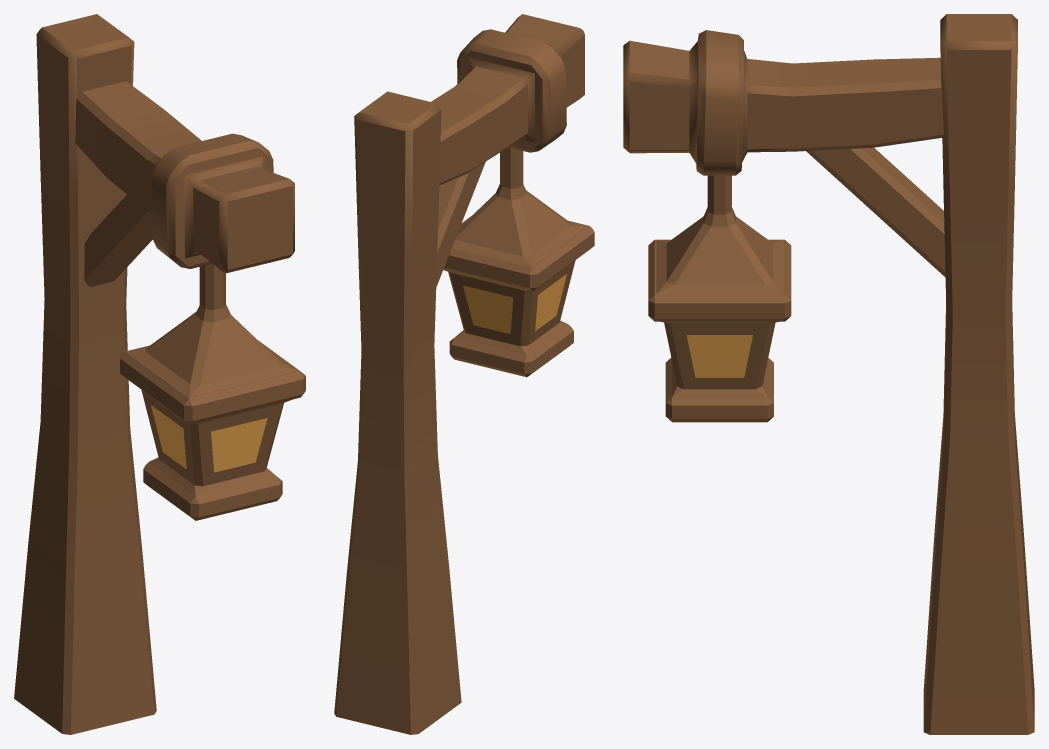
File: streetlight.glb
3 renders of one model, left to right at view 1: azimuth 30°, elevation 25°; view 2: azimuth 150°, elevation 25°; view 3: azimuth 270°, elevation 25°, orthographic. The views are drawn at different scales.
Visible parts, largest first — view 1: streetlightPhysical; view 2: streetlightPhysical; view 3: streetlightPhysical.
Boxes of the visible parts, x1,y1,x2,y2 form: streetlightPhysical: [14, 14, 305, 734]; streetlightPhysical: [334, 14, 594, 734]; streetlightPhysical: [623, 14, 1034, 734].
Size of the model in its own units: 0.4936 by 2.6 by 1.42.
